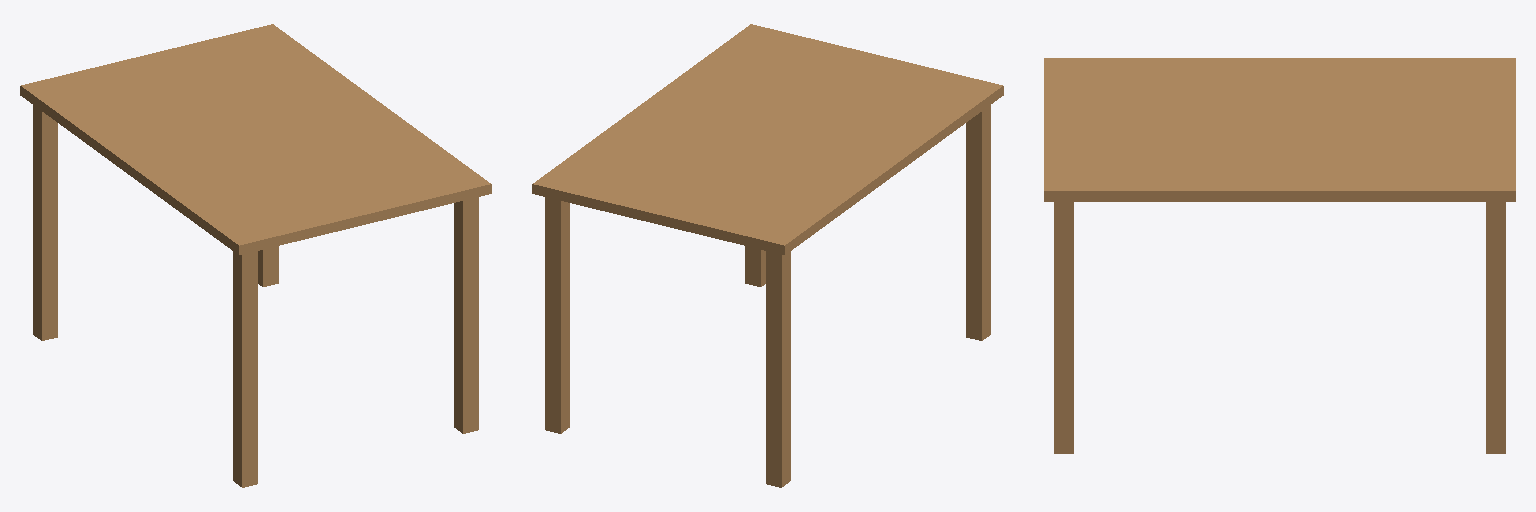
The robot description file, URDF, robot "table":
<?xml version="1.0"?>
<robot name="table">
  <!-- 
    Simple table: 80cm x 120cm surface, 75cm tall.
    The base_link is at the BOTTOM of the table (floor level).
    The surface is at z = 0.75m.
  -->

  <link name="base_link">
    <!-- Table top -->
    <visual>
      <origin xyz="0 0 0.735" rpy="0 0 0"/>
      <geometry>
        <box size="0.80 1.20 0.03"/>
      </geometry>
      <material name="wood">
        <color rgba="0.76 0.60 0.42 1"/>
      </material>
    </visual>
    <collision>
      <origin xyz="0 0 0.735" rpy="0 0 0"/>
      <geometry>
        <box size="0.80 1.20 0.03"/>
      </geometry>
    </collision>

    <!-- 4 Legs — each has visual + collision -->
    <!-- Front-left -->
    <visual>
      <origin xyz="-0.35 -0.55 0.36" rpy="0 0 0"/>
      <geometry><box size="0.05 0.05 0.72"/></geometry>
      <material name="wood"/>
    </visual>
    <collision>
      <origin xyz="-0.35 -0.55 0.36" rpy="0 0 0"/>
      <geometry><box size="0.05 0.05 0.72"/></geometry>
    </collision>
    <!-- Front-right -->
    <visual>
      <origin xyz="0.35 -0.55 0.36" rpy="0 0 0"/>
      <geometry><box size="0.05 0.05 0.72"/></geometry>
      <material name="wood"/>
    </visual>
    <collision>
      <origin xyz="0.35 -0.55 0.36" rpy="0 0 0"/>
      <geometry><box size="0.05 0.05 0.72"/></geometry>
    </collision>
    <!-- Back-left -->
    <visual>
      <origin xyz="-0.35 0.55 0.36" rpy="0 0 0"/>
      <geometry><box size="0.05 0.05 0.72"/></geometry>
      <material name="wood"/>
    </visual>
    <collision>
      <origin xyz="-0.35 0.55 0.36" rpy="0 0 0"/>
      <geometry><box size="0.05 0.05 0.72"/></geometry>
    </collision>
    <!-- Back-right -->
    <visual>
      <origin xyz="0.35 0.55 0.36" rpy="0 0 0"/>
      <geometry><box size="0.05 0.05 0.72"/></geometry>
      <material name="wood"/>
    </visual>
    <collision>
      <origin xyz="0.35 0.55 0.36" rpy="0 0 0"/>
      <geometry><box size="0.05 0.05 0.72"/></geometry>
    </collision>

    <inertial>
      <mass value="20.0"/>
      <origin xyz="0 0 0.375"/>
      <inertia ixx="1.0" ixy="0" ixz="0" iyy="1.0" iyz="0" izz="1.0"/>
    </inertial>
  </link>

  <gazebo reference="base_link">
    <material>Gazebo/Wood</material>
  </gazebo>
  <gazebo>
    <static>true</static>
  </gazebo>
</robot>

--- Render facts (derived) ---
3 views of the same robot in one strip: view 1: azimuth 30°, elevation 25°; view 2: azimuth 150°, elevation 25°; view 3: azimuth 270°, elevation 25° (orthographic).
Model table with 1 links and 0 joints (none), rooted at base_link, posed all joints at 0.
Links seen in each view (by area): view 1: base_link; view 2: base_link; view 3: base_link.
Link boxes in pixels (x1,y1,x2,y2): base_link: [20, 24, 491, 487]; base_link: [532, 24, 1003, 487]; base_link: [1044, 58, 1515, 453].
Size in the robot's own frame: 0.8 by 1.2 by 0.75 metres.
Geometry: primitives only (box / cylinder / sphere), no mesh files.
